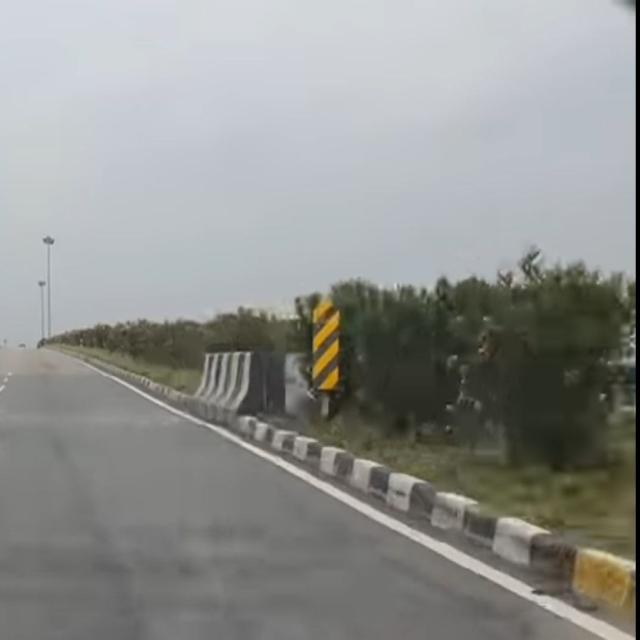object_hazzard_to_right: (305, 293, 353, 403)
